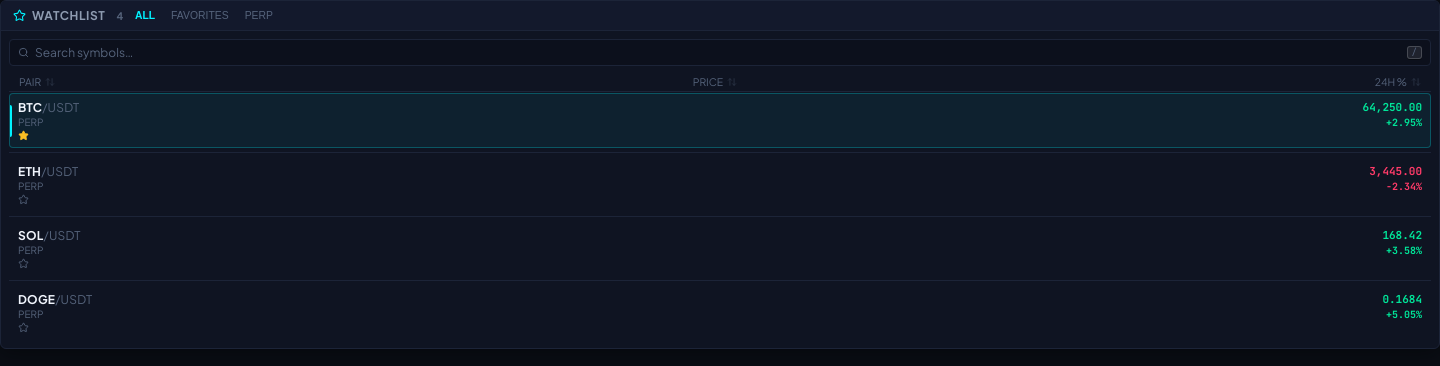
WatchlistPanel Feature with Zustand State Management › shows all symbols when search is cleared
In the field labelled "Search symbols": (718, 52) left=35, top=45, right=1401, bottom=60, type "btc"
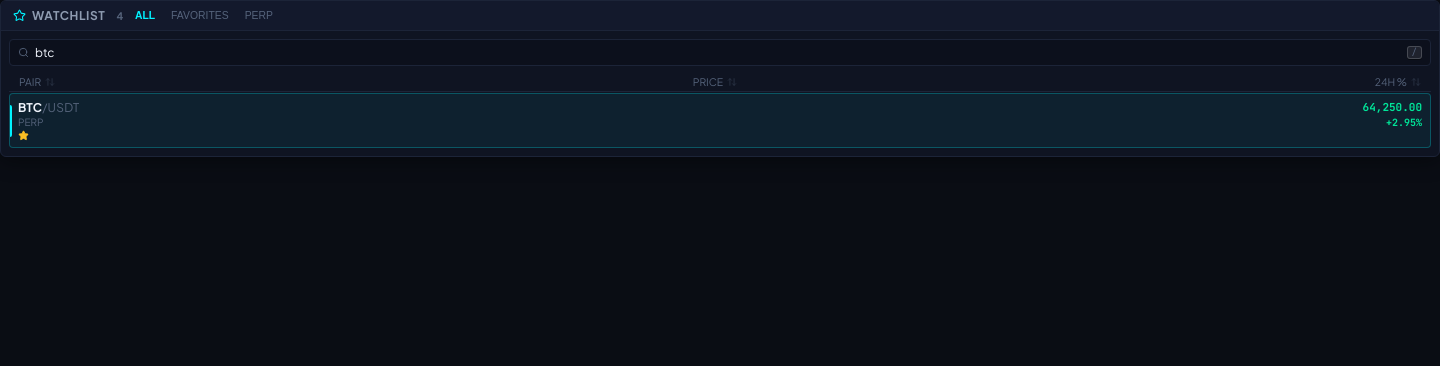
Clear the field named "Search symbols": (718, 52) left=35, top=45, right=1401, bottom=60
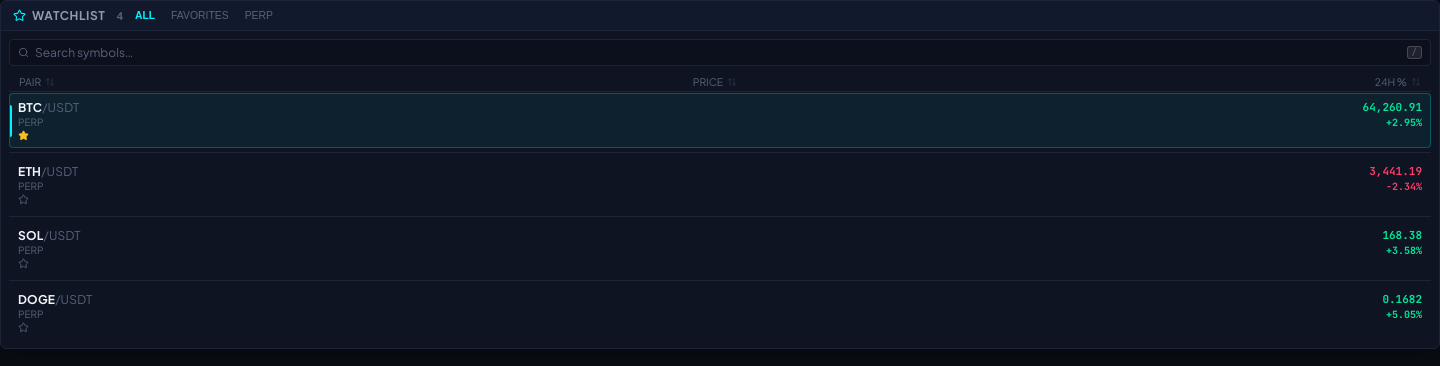
Expected: the button with test id "watchlist-item-ETH" is shown, left=9, top=157, right=1431, bottom=212
Expected: the button with test id "watchlist-item-SOL" is shown, left=9, top=221, right=1431, bottom=276
Expected: the button with test id "watchlist-item-DOGE" is shown, left=9, top=285, right=1431, bottom=340
